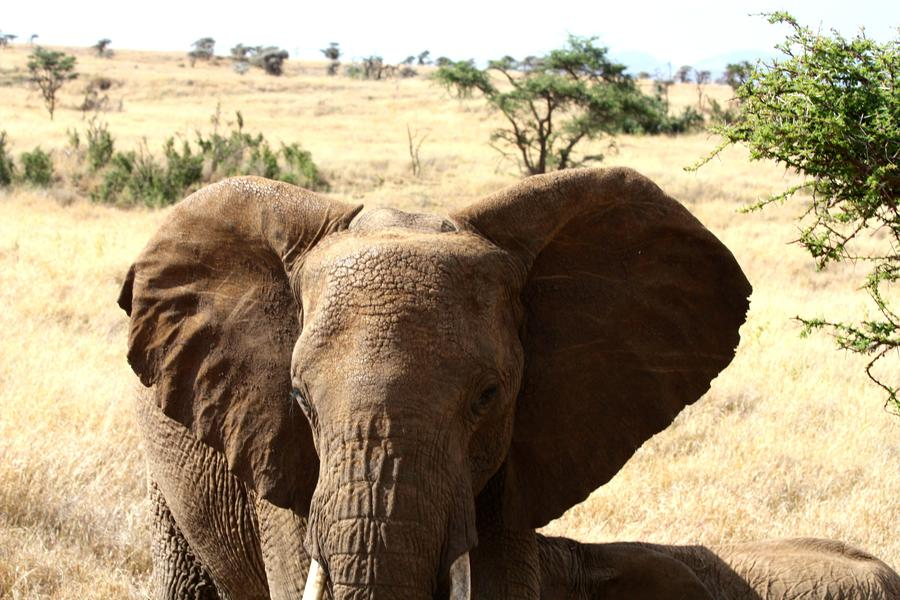elephant: (133, 195, 693, 531)
